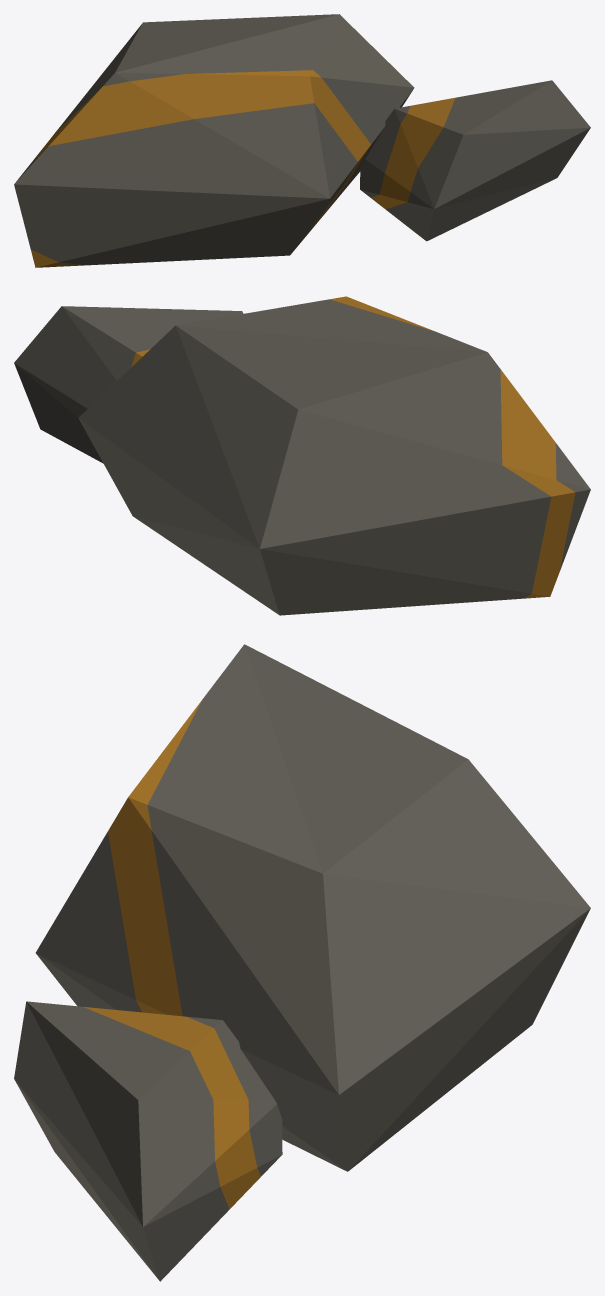
Rendered from ore_gold_v03_lod1.glb.
3 renders of one model, top to bottom at view 1: azimuth 30°, elevation 25°; view 2: azimuth 150°, elevation 25°; view 3: azimuth 270°, elevation 25°, orthographic. The views are drawn at different scales.
Parts seen in each view (by area): view 1: ore_gold_v03_lod1; view 2: ore_gold_v03_lod1; view 3: ore_gold_v03_lod1.
Part boxes in pixels (x1,y1,x2,y2): ore_gold_v03_lod1: (14,14,590,267); ore_gold_v03_lod1: (14,296,590,615); ore_gold_v03_lod1: (14,644,590,1281).
Bounding box in the file's own units: 2.91 × 0.9675 × 1.65.
